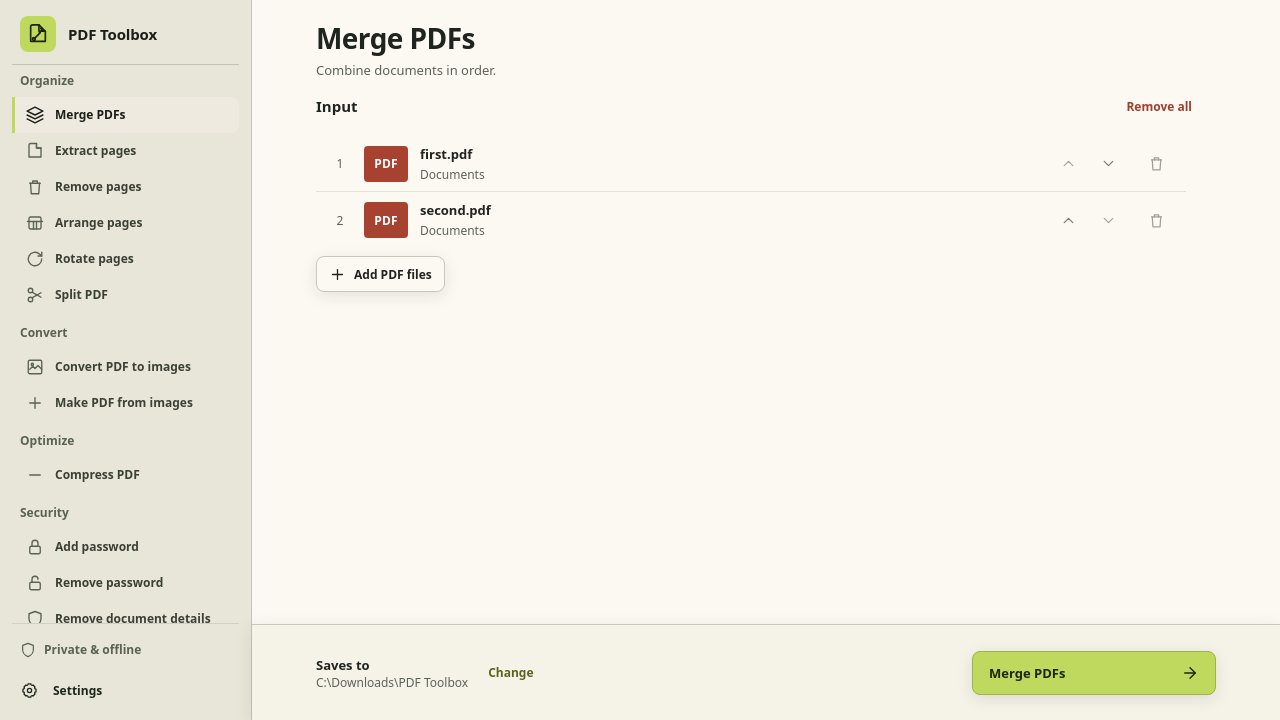
Test: PdfToolboxView › documents tool shortcuts in accessible rich tooltips
Focus the button "Merge PDFs" below "Organize" at (126, 115), box x1=12 y1=97 x2=239 y2=133
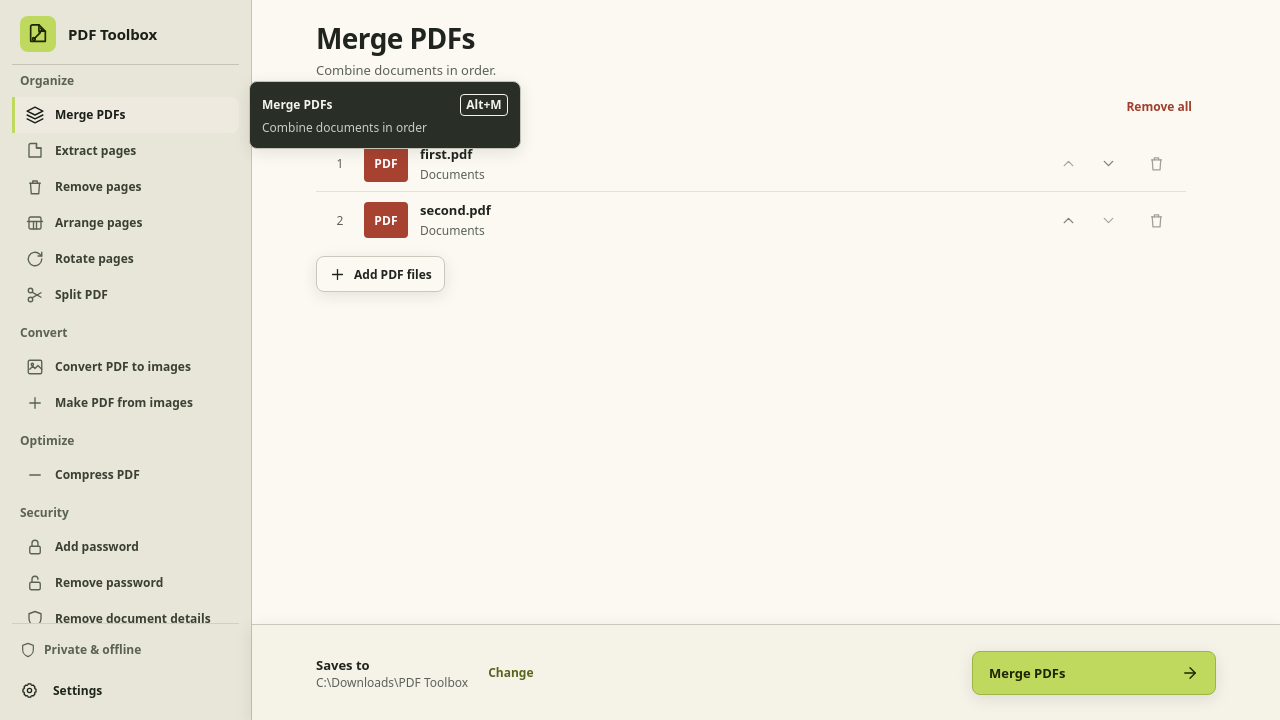
Now the tooltip shows "Merge PDFs", box x1=262 y1=96 x2=332 y2=113
Now the tooltip shows "Combine documents in order", box x1=262 y1=119 x2=427 y2=136
Now the tooltip shows "Alt+M", box x1=466 y1=96 x2=502 y2=113
